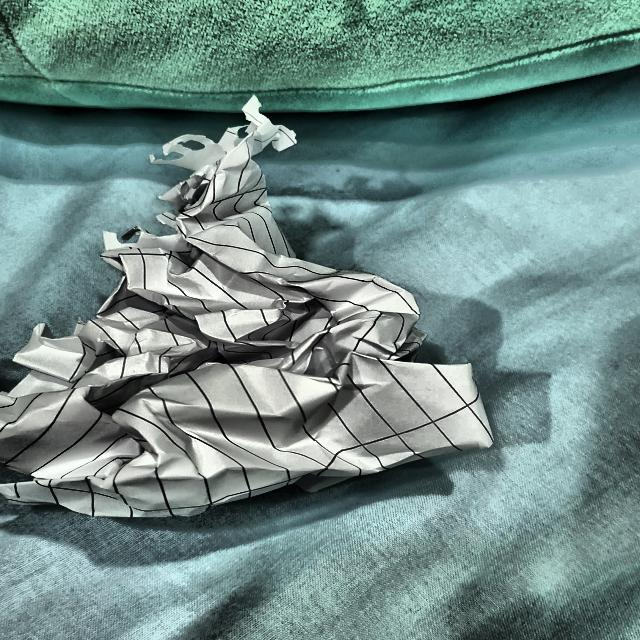paper: (0, 119, 507, 525)
